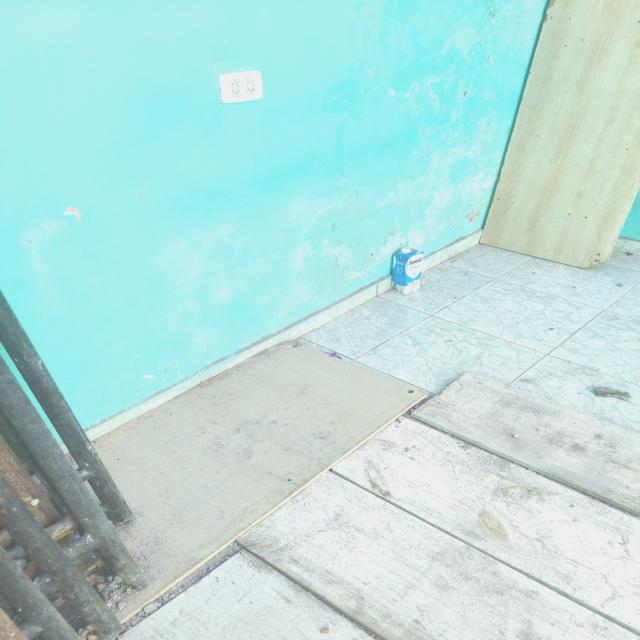Caixa de Leite: (389, 247, 425, 294)
